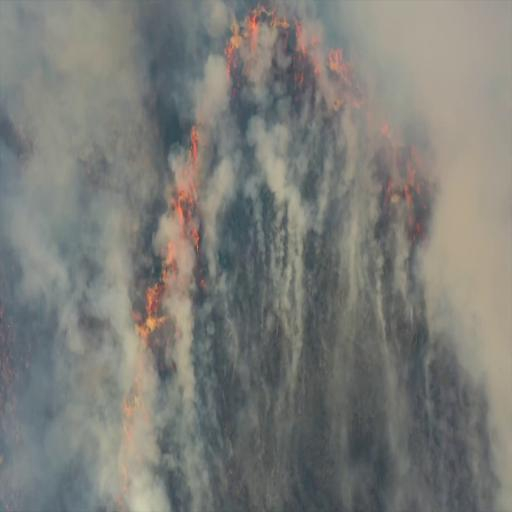fire: (234, 0, 318, 57), (173, 171, 194, 232)
smoke: (445, 19, 512, 316), (0, 25, 142, 162), (65, 157, 128, 409), (260, 115, 304, 318)
